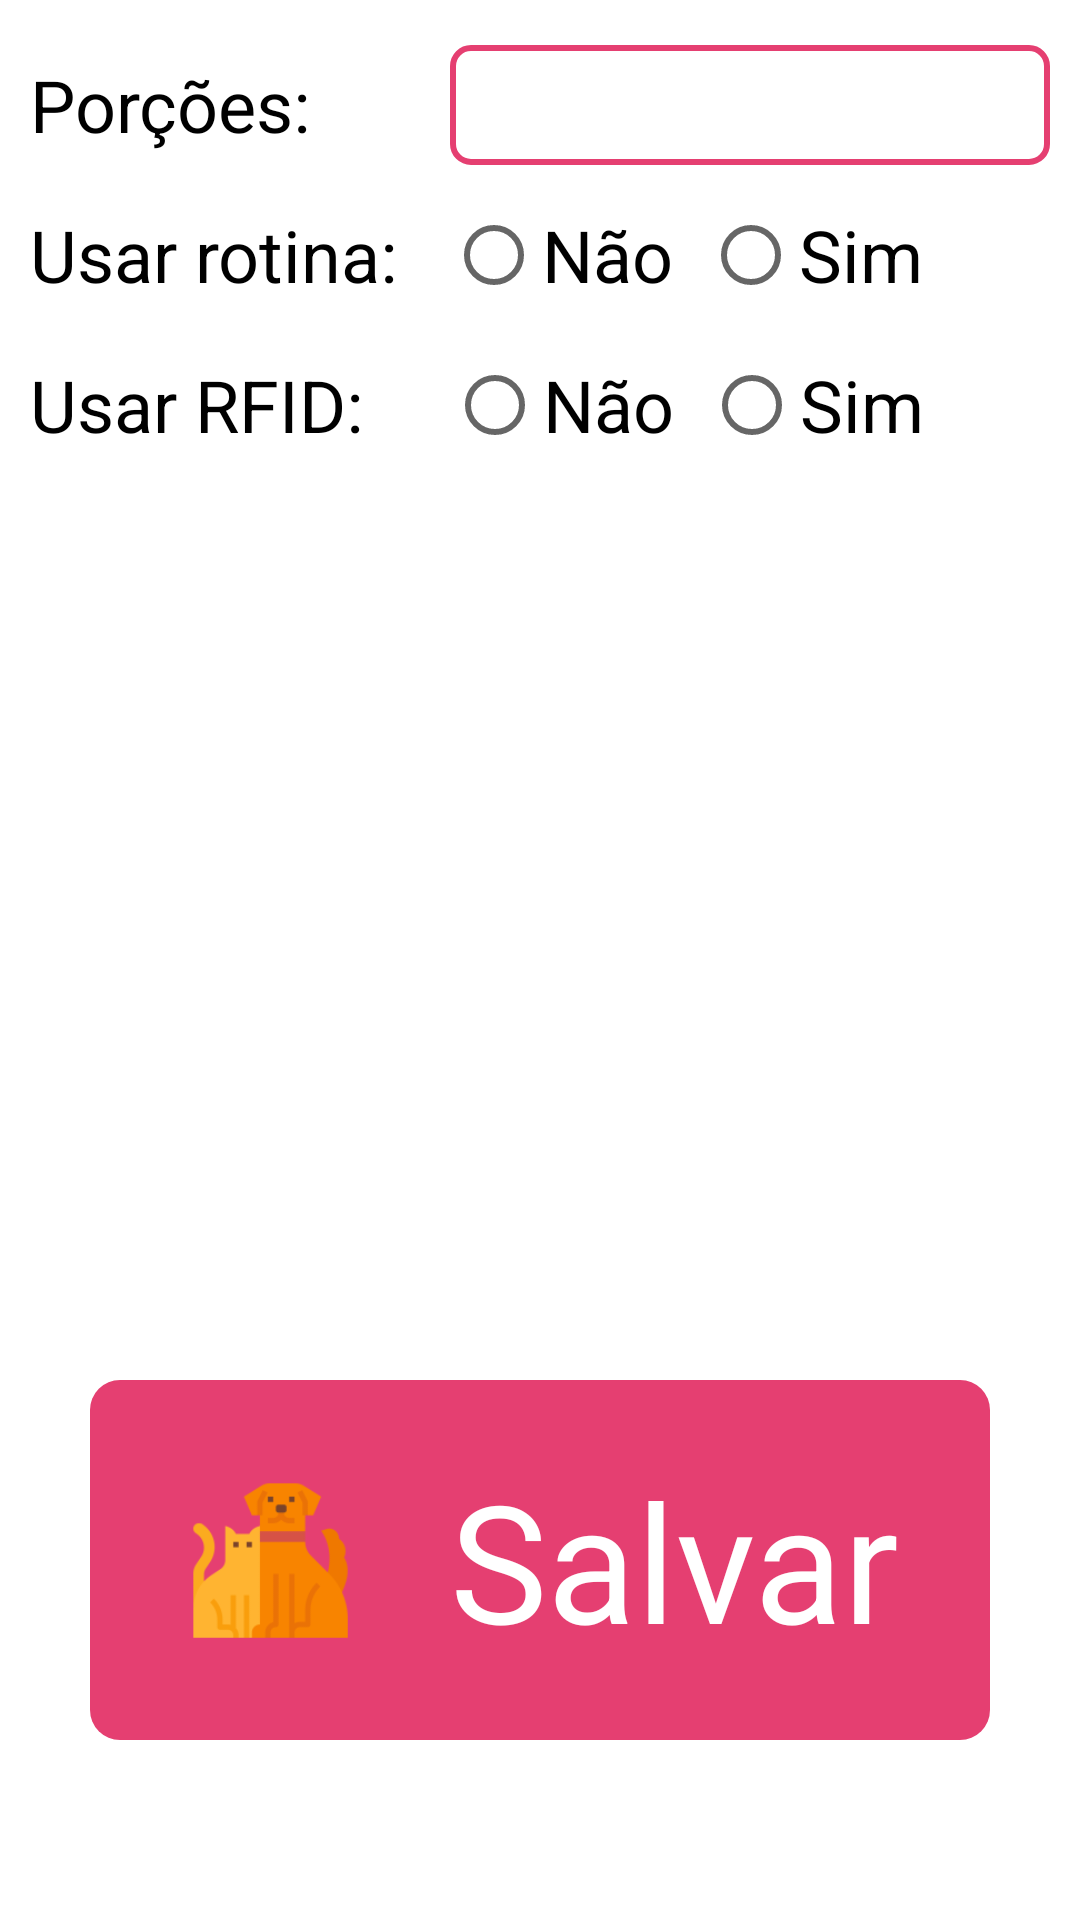

Locate icon controls on the screen. Image size 1080px x 1920px, boxes as (x1, y1, x2, y2).
pet: (90, 1380, 450, 1740)
